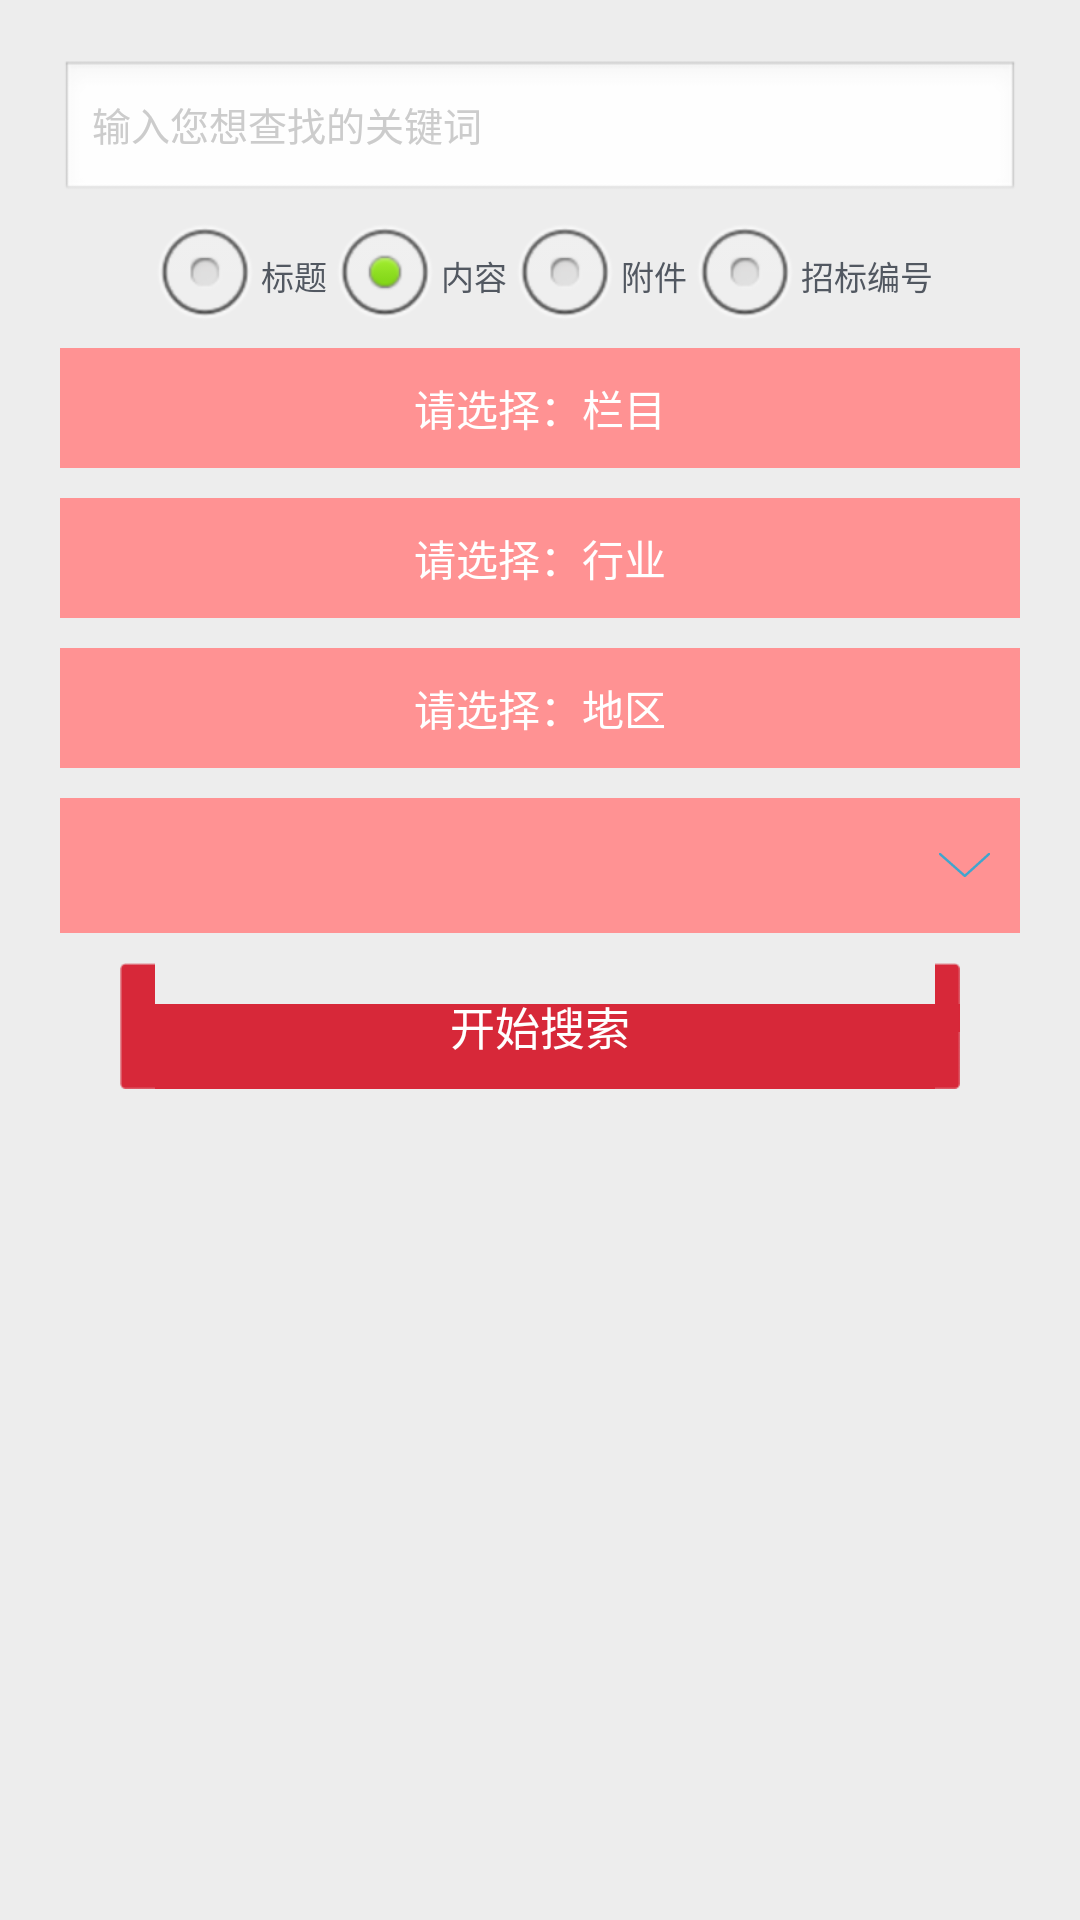

Screen size 1080*1920. Icon name, then its center in pixels as [x,y]:
arrow down: [964,865]
